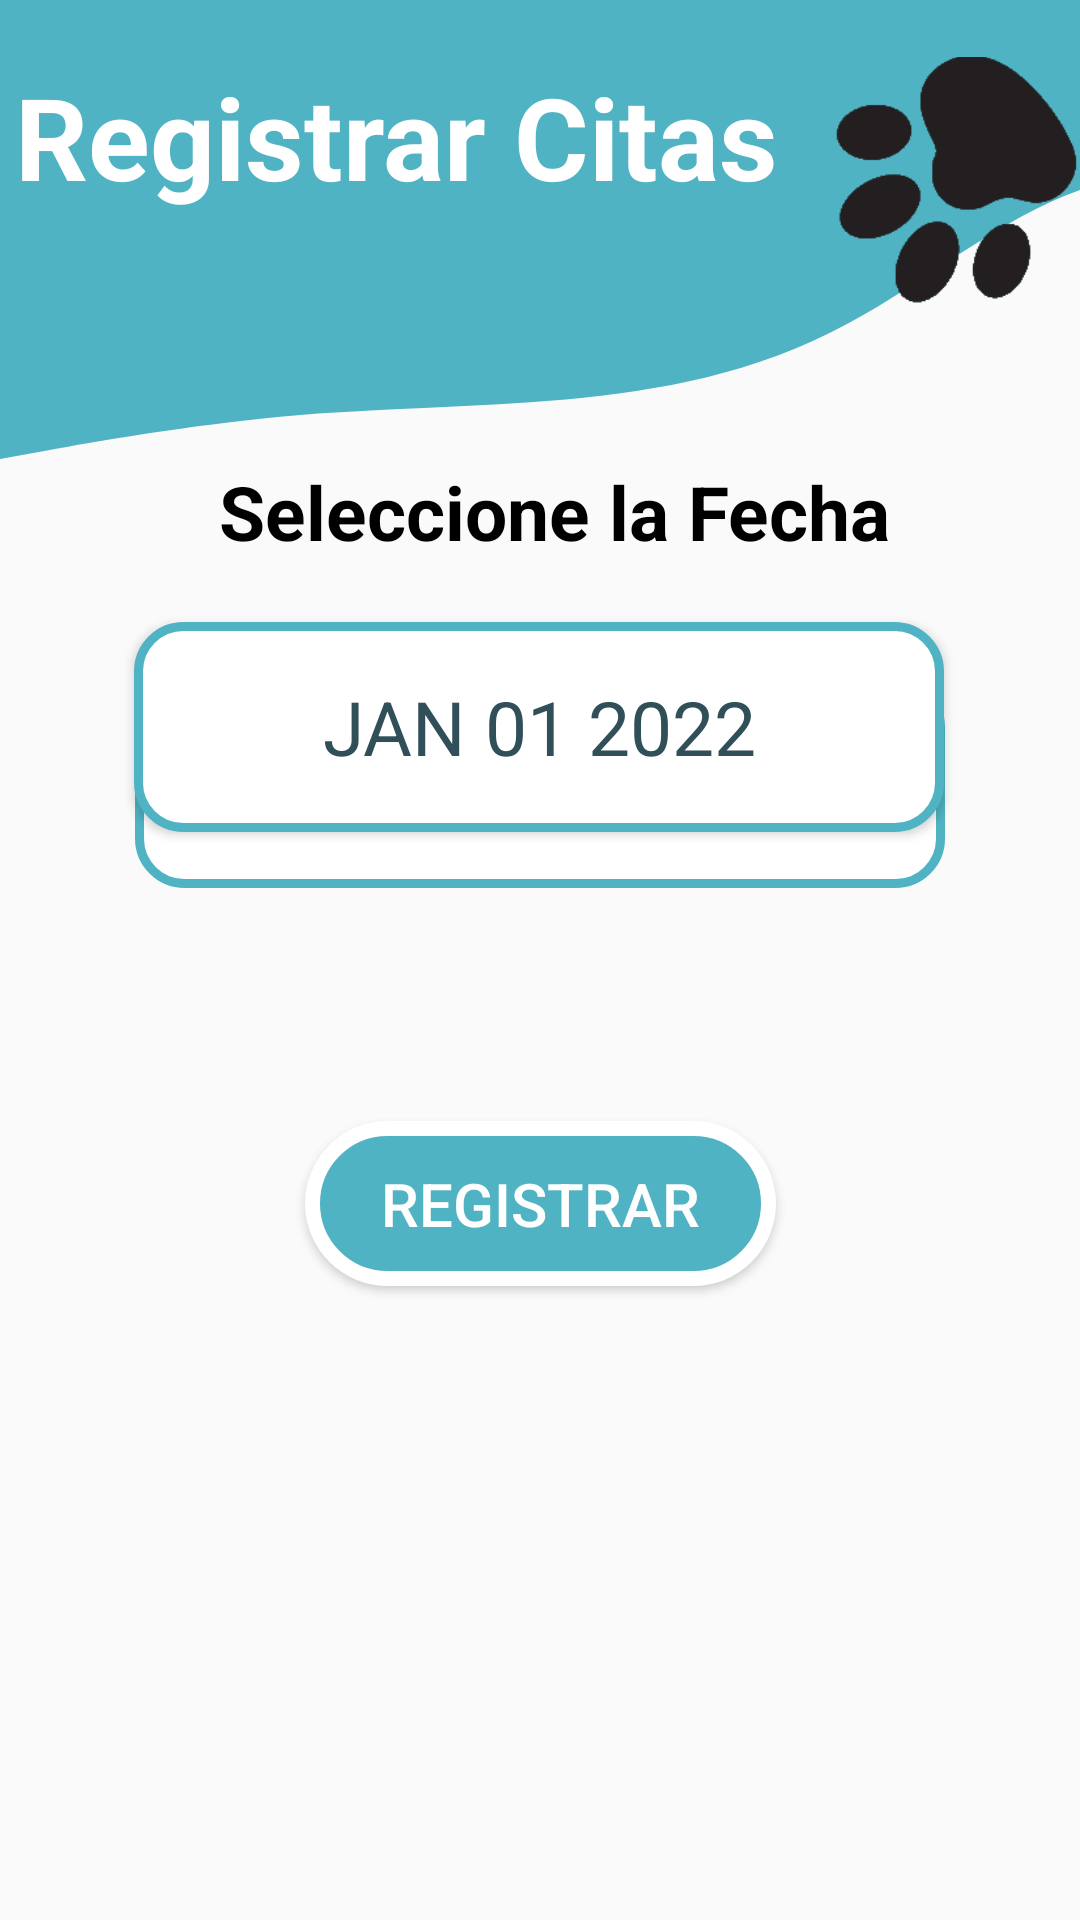

Icons on this 1080px×1920px Android screen, each with the point to tap as (x,y):
pata: (937,214)
